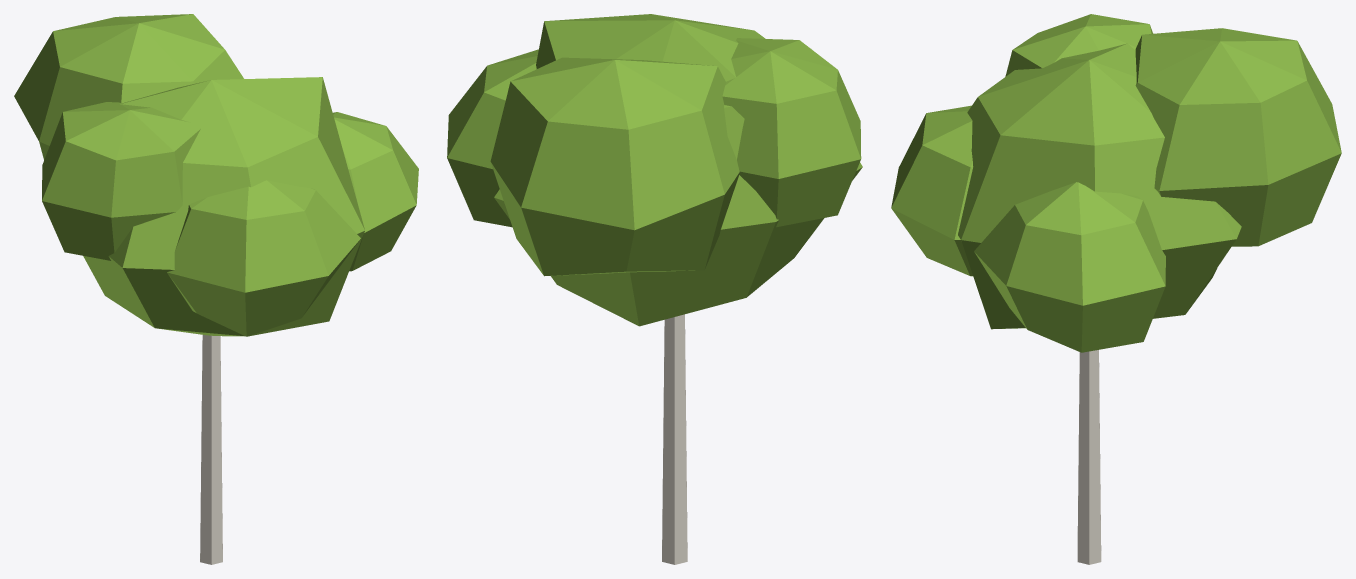
The model's file is tree_birch_a.glb.
The picture shows the model from 3 angles, left to right: view 1: azimuth 30°, elevation 25°; view 2: azimuth 150°, elevation 25°; view 3: azimuth 270°, elevation 25°; orthographic projection. The views are drawn at different scales.
Visible parts, largest first — view 1: tree_birch_a; view 2: tree_birch_a; view 3: tree_birch_a.
Boxes of the visible parts, box(x1,y1,x2,y2) form: tree_birch_a: box(14, 14, 418, 564); tree_birch_a: box(447, 14, 862, 564); tree_birch_a: box(891, 14, 1341, 564).
Bounding box in the file's own units: 6.52 × 8.24 × 6.56.
